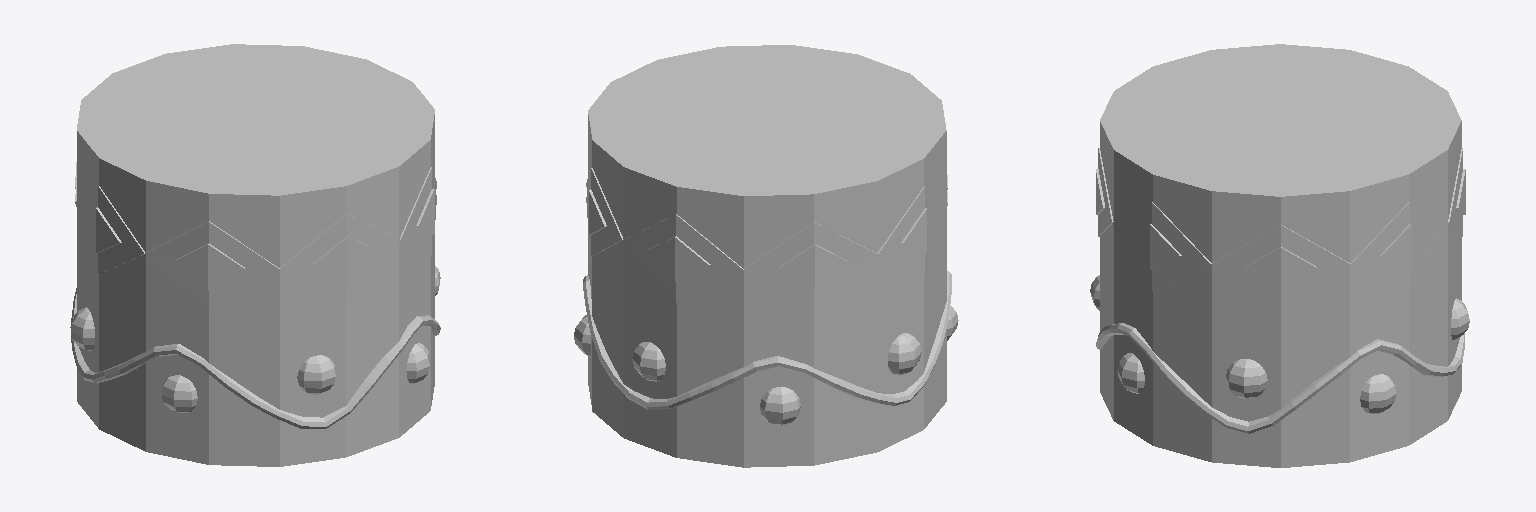
File: nativeAmerican_tower_base_v01_colin_feb01.obj
3 renders of one model, left to right at view 1: azimuth 30°, elevation 25°; view 2: azimuth 150°, elevation 25°; view 3: azimuth 270°, elevation 25°, orthographic.
Visible parts, largest first — view 1: Base, Diamonds, Stripe, Balls; view 2: Base, Diamonds, Stripe, Balls; view 3: Base, Diamonds, Stripe, Balls.
Part boxes in pixels (left/top/right/bottom): Base: left=77, top=44, right=434, bottom=466; Diamonds: left=75, top=162, right=436, bottom=309; Stripe: left=70, top=288, right=440, bottom=428; Balls: left=71, top=266, right=440, bottom=412; Base: left=588, top=45, right=946, bottom=467; Diamonds: left=586, top=168, right=947, bottom=310; Stripe: left=583, top=271, right=951, bottom=409; Balls: left=574, top=305, right=958, bottom=425; Base: left=1100, top=44, right=1461, bottom=467; Diamonds: left=1096, top=148, right=1465, bottom=312; Stripe: left=1096, top=323, right=1464, bottom=433; Balls: left=1090, top=275, right=1469, bottom=413.
Size of the model in its own units: 8.2 by 6.39 by 8.11.